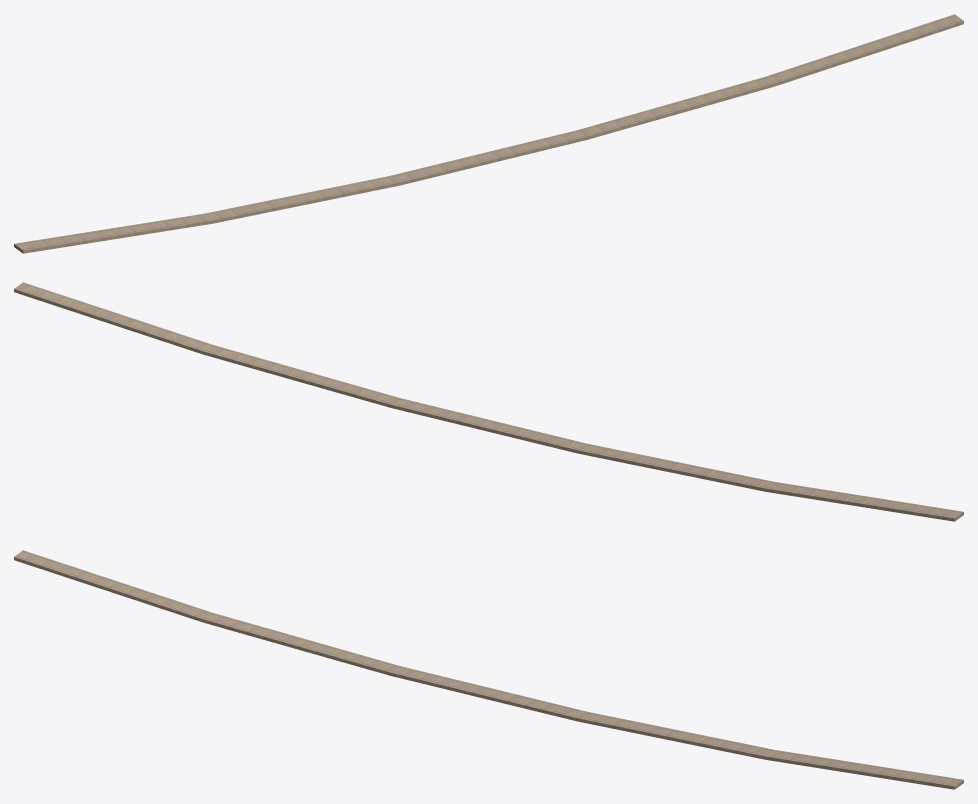
Rendered from 0571_Suspension_Bridge.glb.
3 renders of one model, top to bottom at view 1: azimuth 30°, elevation 25°; view 2: azimuth 150°, elevation 25°; view 3: azimuth 330°, elevation 25°, orthographic.
Parts seen in each view (by area): view 1: part_0; view 2: part_0; view 3: part_0.
Boxes of the visible parts, x1,y1,x2,y2 form: part_0: (14, 14, 963, 253); part_0: (14, 282, 963, 521); part_0: (14, 550, 963, 789).
Size of the model in its own units: 154 by 4.23 by 2.61.
1 material, 1 textured.
